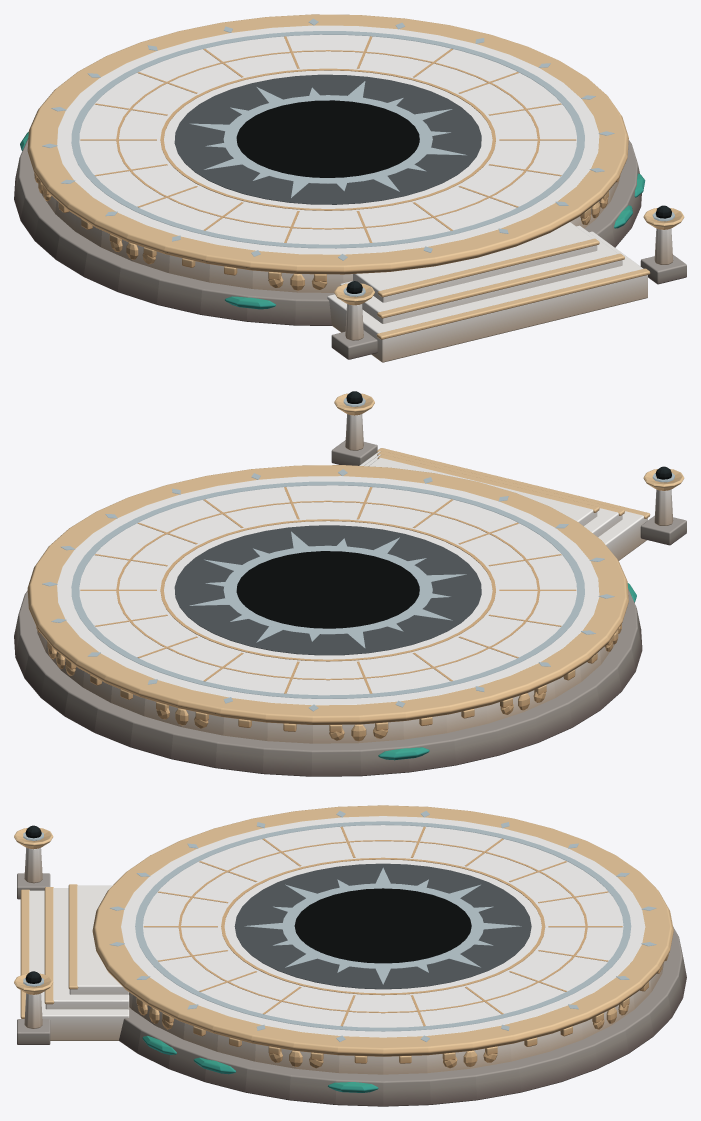
Rendered from grove_dais_dark.glb.
The picture shows the model from 3 angles, top to bottom: view 1: azimuth 30°, elevation 25°; view 2: azimuth 150°, elevation 25°; view 3: azimuth 270°, elevation 25°; orthographic projection. The views are drawn at different scales.
Parts seen in each view (by area): view 1: grove_dais_dark; view 2: grove_dais_dark; view 3: grove_dais_dark.
Boxes of the visible parts, box(x1,y1,x2,y2) form: grove_dais_dark: box(14, 14, 686, 362); grove_dais_dark: box(14, 391, 686, 776); grove_dais_dark: box(14, 805, 686, 1106).
Bounding box in the file's own units: 12.73 × 1.83 × 14.05.
Materials: 6 (6 with a texture image).
